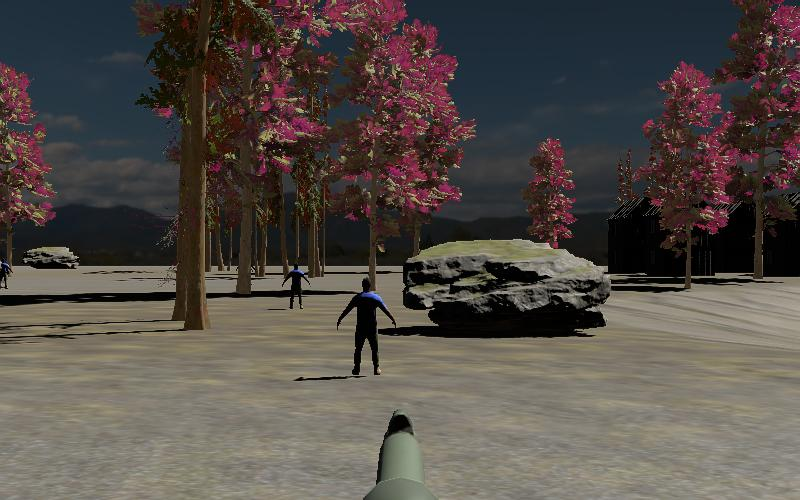Human: (335, 274, 398, 378), (280, 260, 312, 311), (0, 257, 13, 291)
